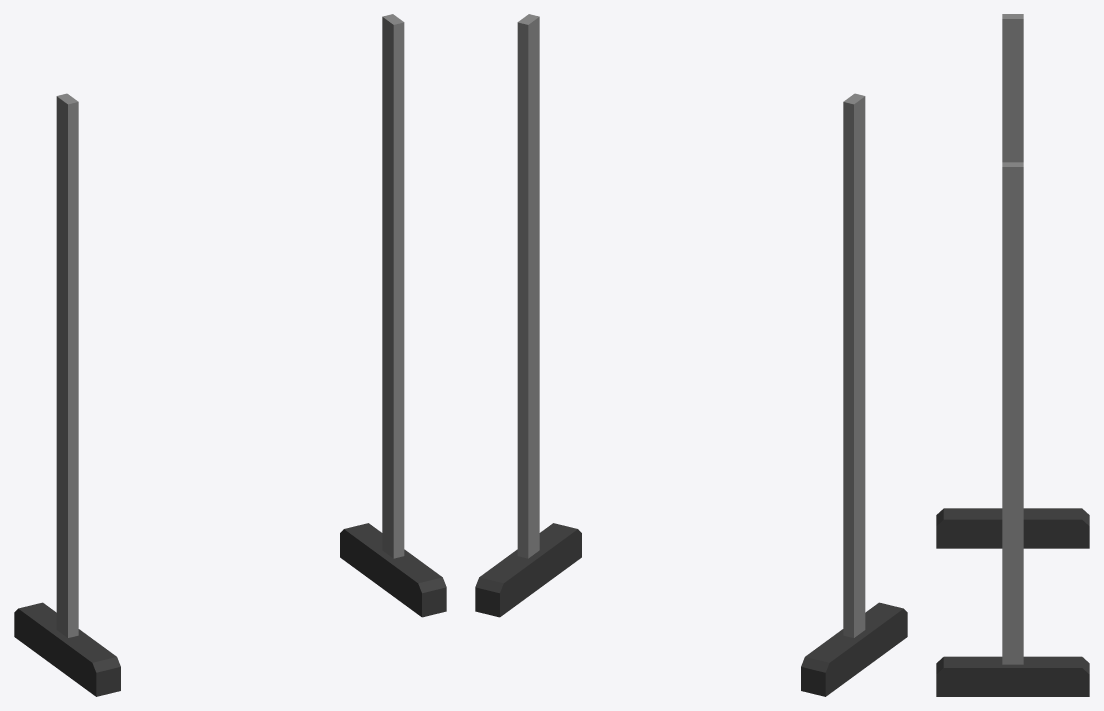
File: Pullup_Stand.fbx
3 views of the same model, side by side, from view 1: azimuth 30°, elevation 25°; view 2: azimuth 150°, elevation 25°; view 3: azimuth 270°, elevation 25° (orthographic). The views are drawn at different scales.
Parts seen in each view (by area): view 1: Pullup_Stand; view 2: Pullup_Stand; view 3: Pullup_Stand.
Part boxes in pixels (x1=…): Pullup_Stand: x1=14, y1=14, x2=446, y2=696; Pullup_Stand: x1=475, y1=14, x2=907, y2=696; Pullup_Stand: x1=936, y1=14, x2=1089, y2=696.
Bounding box in the file's own units: 188 × 289 × 76.08.
